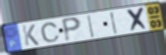C: (40, 22, 61, 43)
I: (110, 11, 119, 36), (87, 14, 96, 39)
K: (21, 23, 40, 47)
P: (61, 16, 83, 43)
X: (126, 6, 150, 33)
